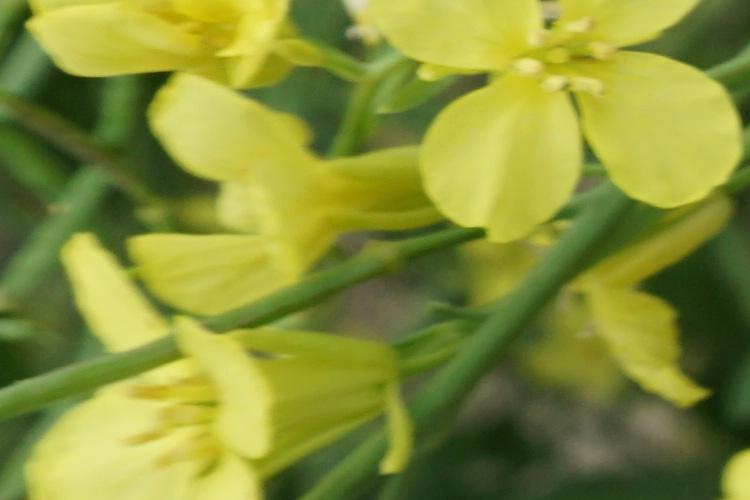yellow: (35, 294, 412, 496), (387, 8, 726, 231), (114, 105, 449, 283), (47, 12, 397, 110)
